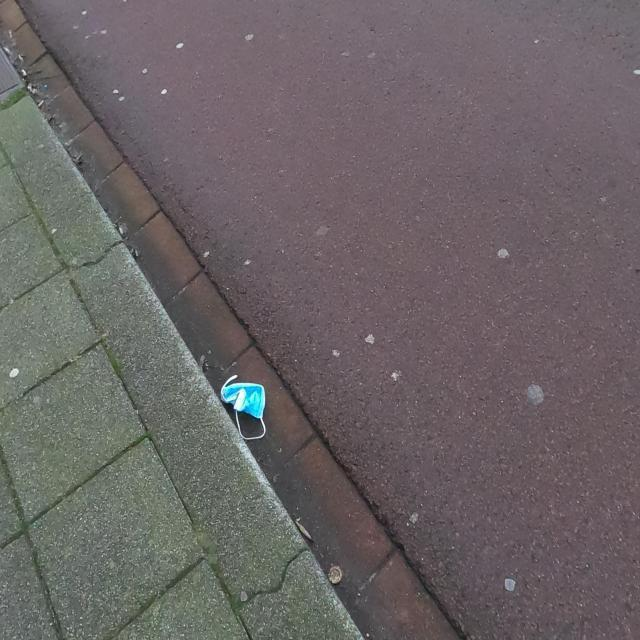Mask: (219, 372, 267, 442)
